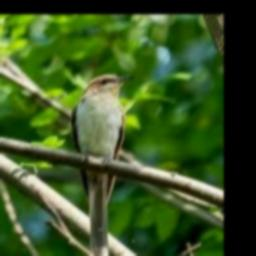Cuckoo: (71, 74, 137, 256)
